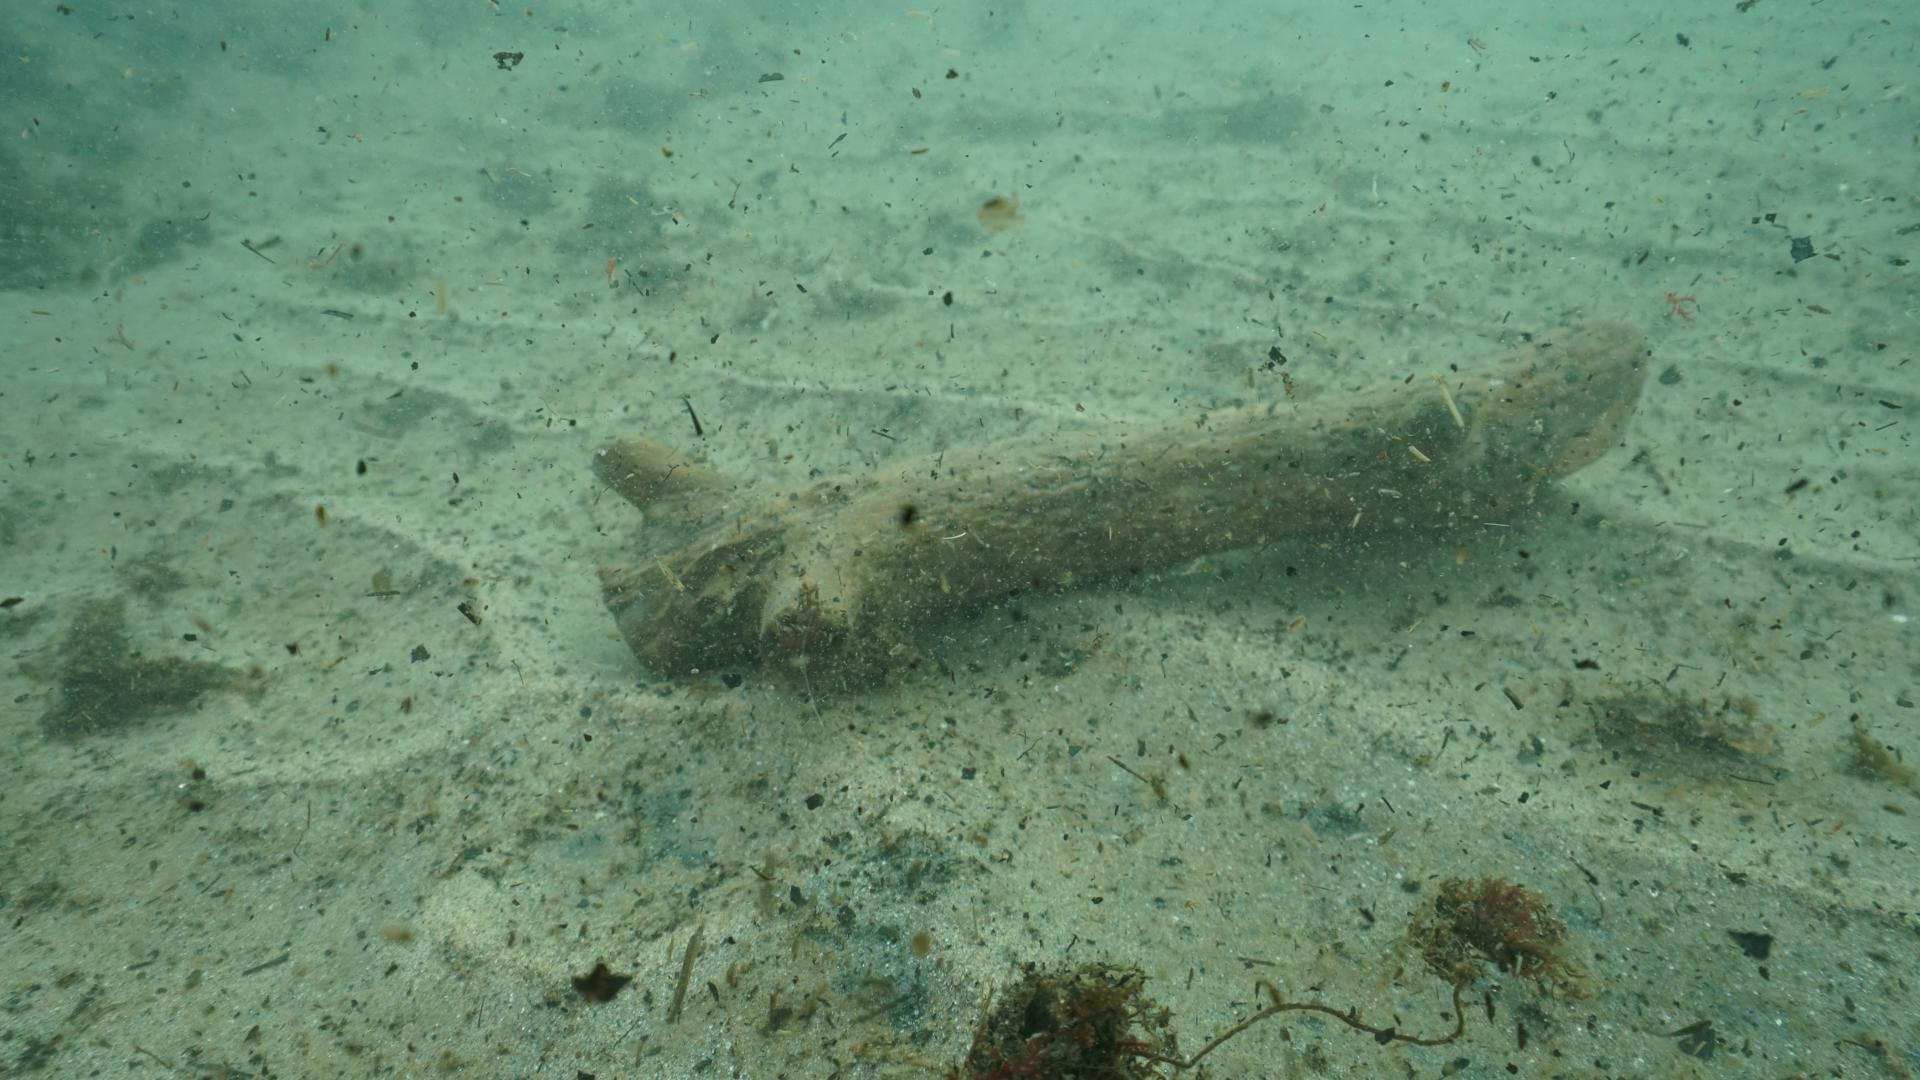wood: (589, 316, 1650, 678)
